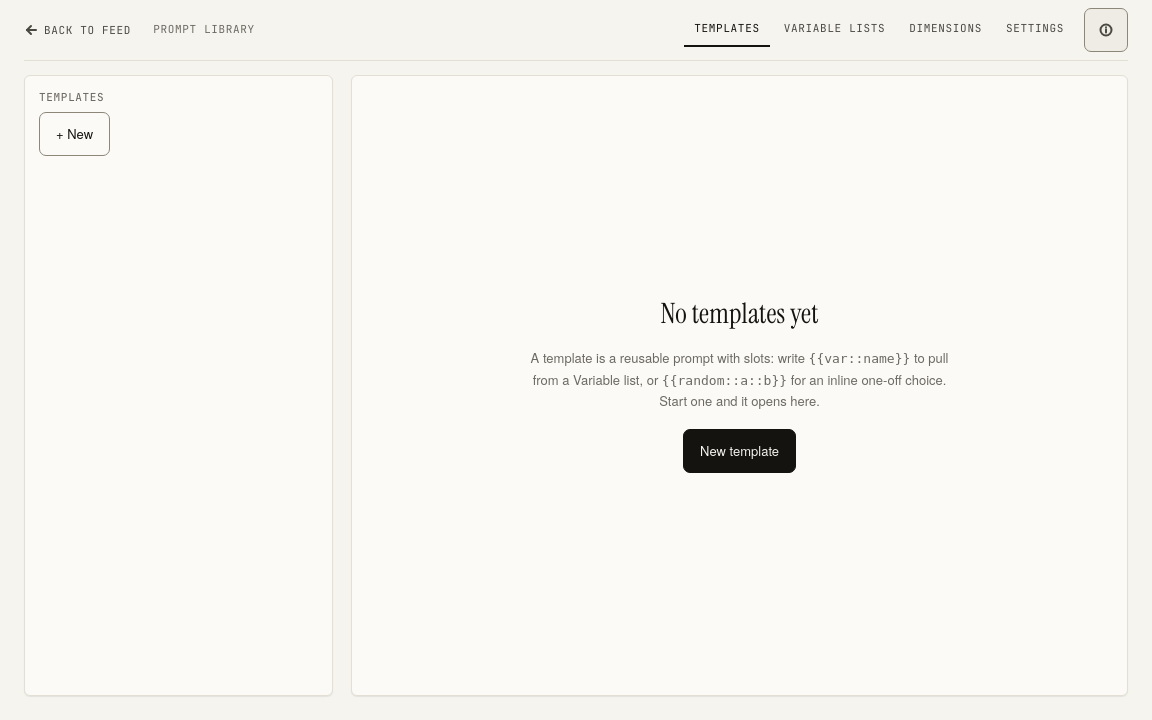
PromptManager › empty tabs show teaching copy instead of bland placeholders
This screenshot has width=1152, height=720.
Check: the text "pull from a Variable list" is shown, box [533,348,948,388]
Check: the number of headings "No templates yet" is 1, box [660,298,819,330]
What coordinates should you click on to do the following:
click the tab "Variable lists"
I would click on:
 (834, 30)
Its box is [774,13,895,47].
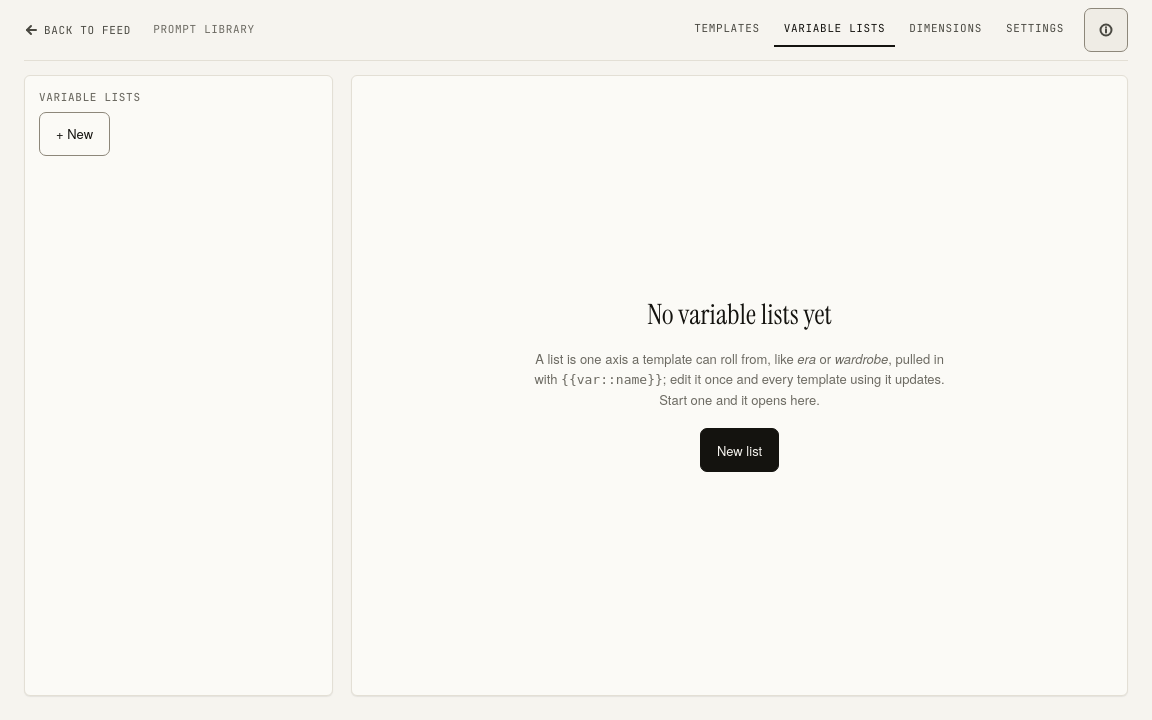
Check: the number of headings "No variable lists yet" is 1, box [647,299,832,331]
Check: the heading "No variable lists yet" is shown, box [647,299,832,331]
What coordinates should you click on to do the following:
click the tab "Dimensions"
I would click on:
 (946, 30)
Its box is [899,13,992,47].
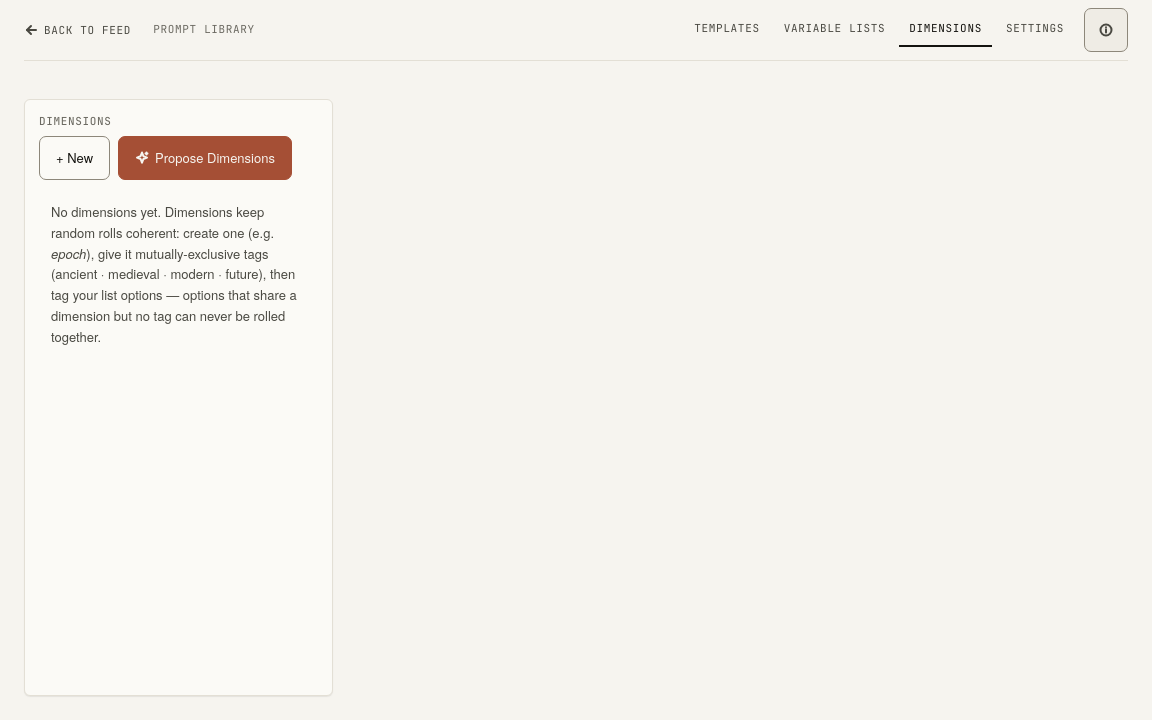
Check: the text "No dimensions yet." is shown, box [51,202,274,242]
